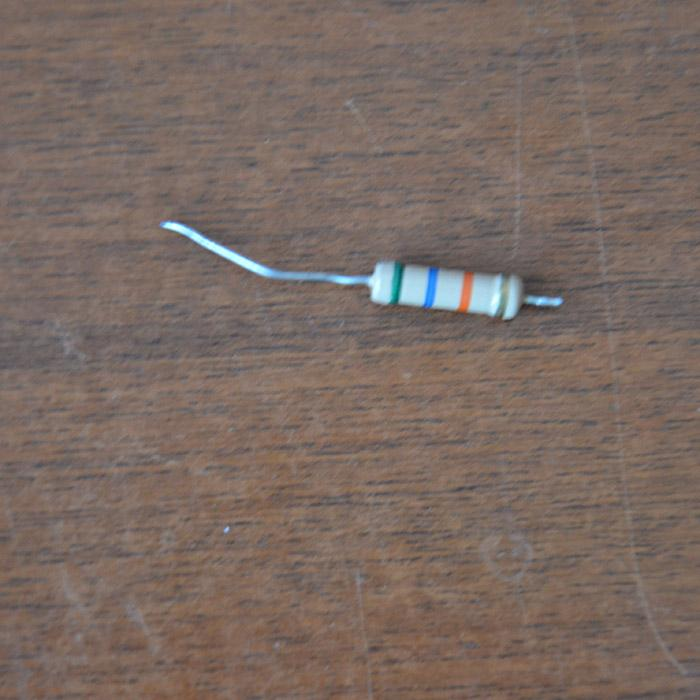resistor: (368, 260, 522, 321)
